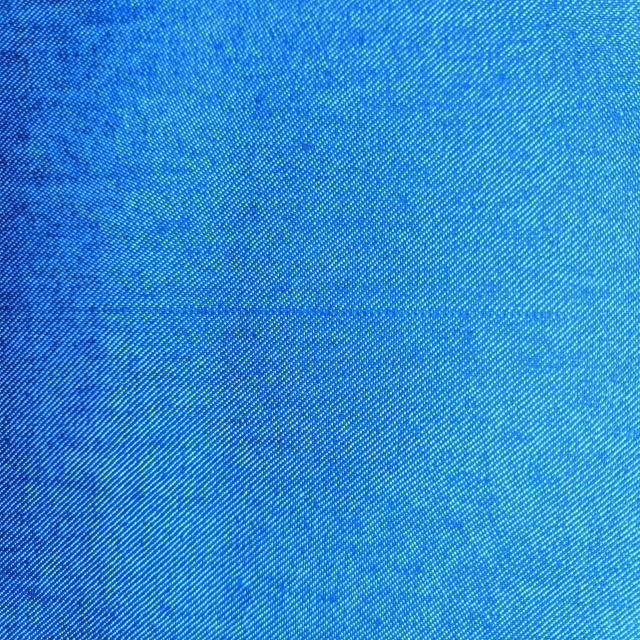Line: (58, 305, 563, 322)
